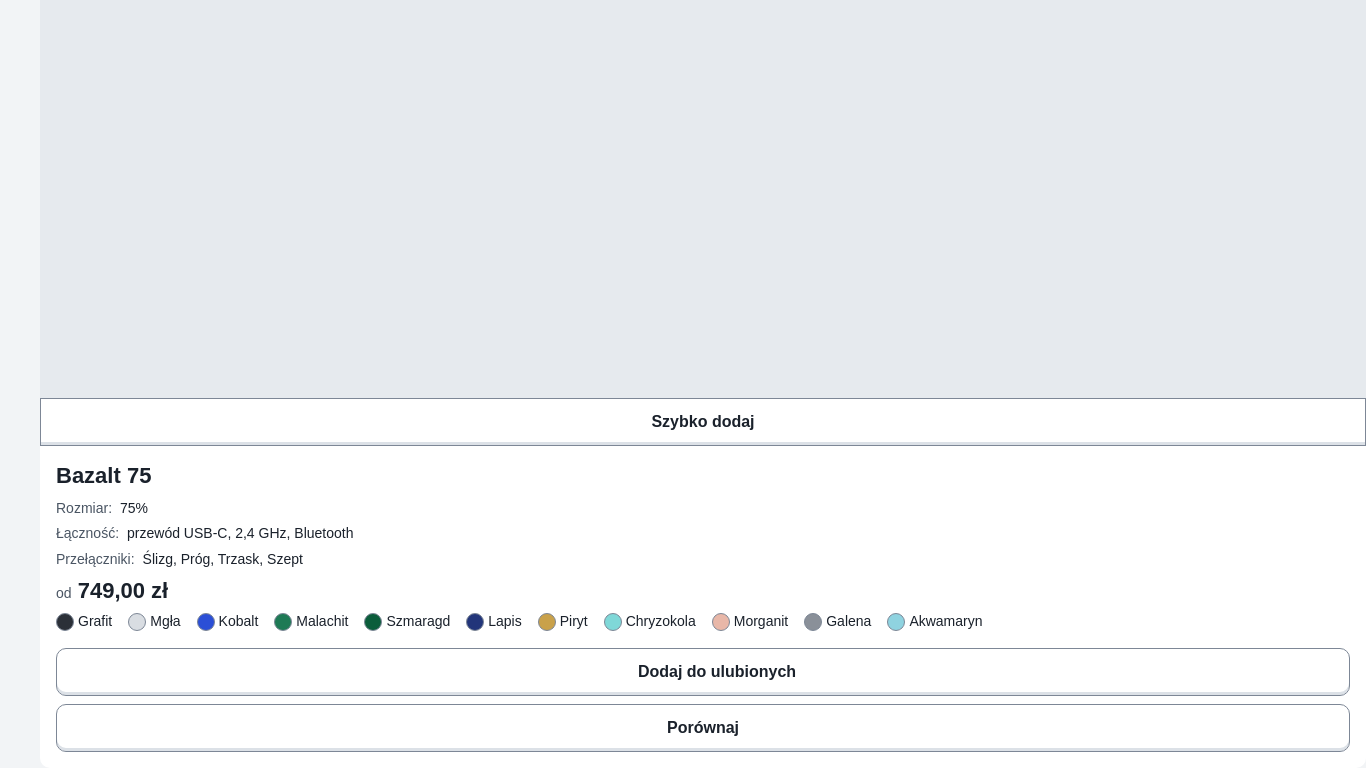
it: panel wyboru wariantu (F-043) › axe: panel otwarty bez naruszen
(page scrolled)
Click the button "Szybko dodaj" at (703,422), box [40,398,1365,446]
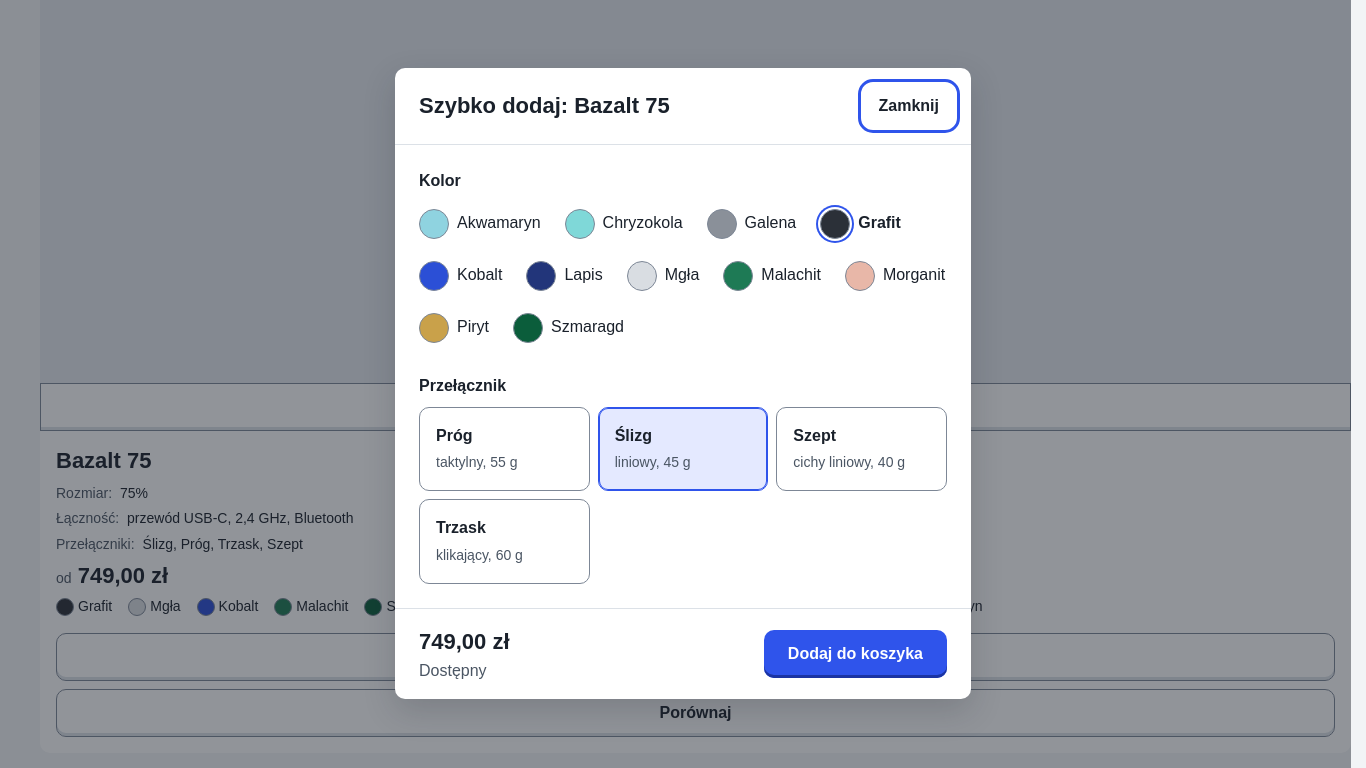
Now the element "Kolor" is shown, box [419,169,947,350]
